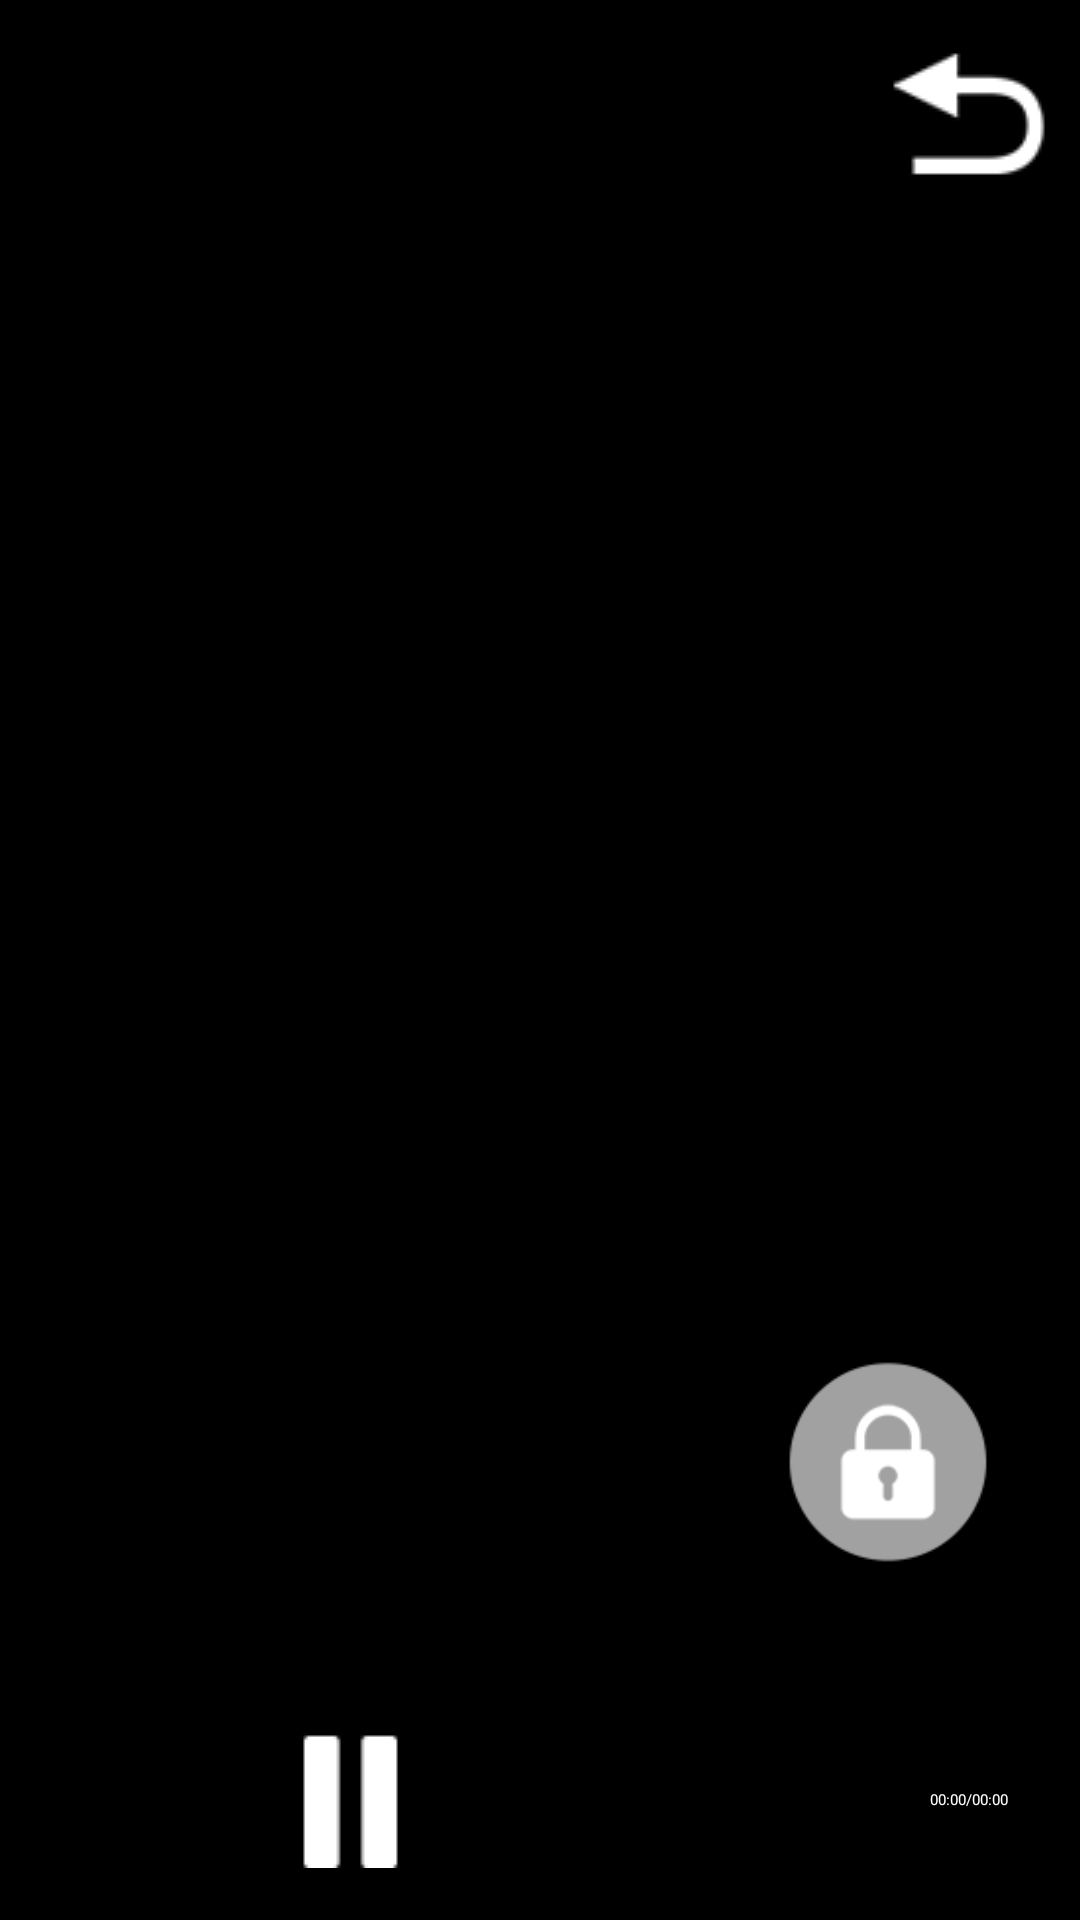

Screen size 1080*1920. Icon name, then its box in pixels as (x1, y1, x2, y2):
lock: (789, 1362, 987, 1562)
